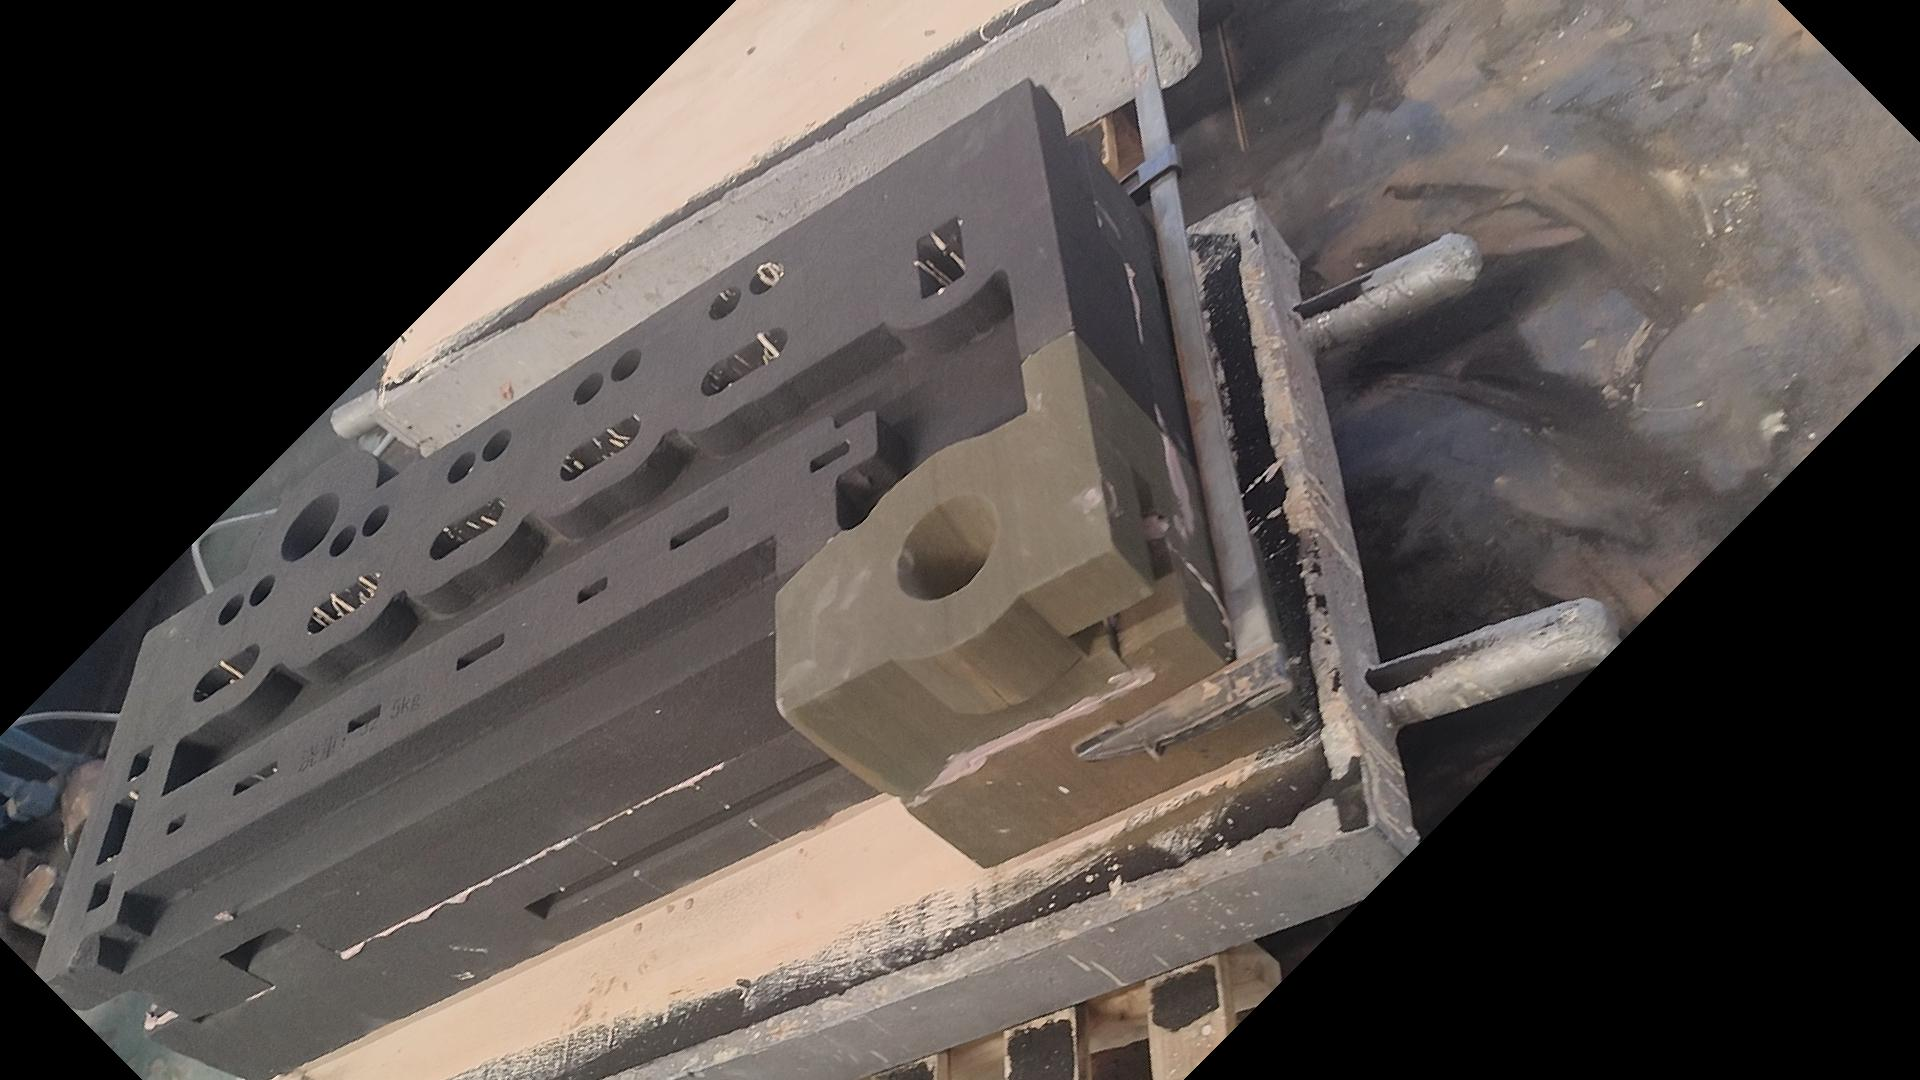pouring hole: (895, 493, 998, 603), (276, 491, 338, 563)
